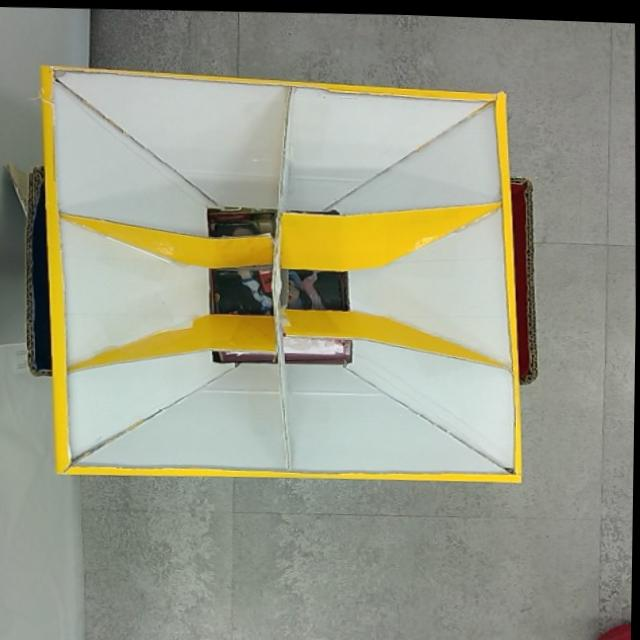box: (22, 53, 544, 489)
